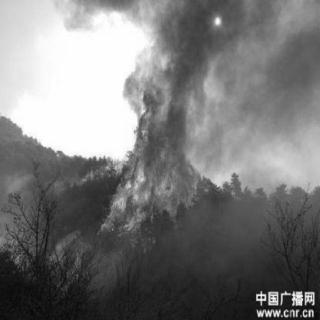Fire: (50, 237, 90, 295)
